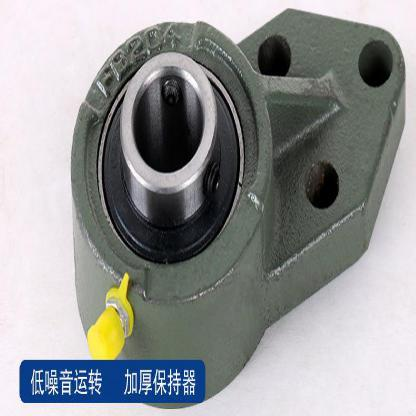FOD: (99, 51, 248, 270)
